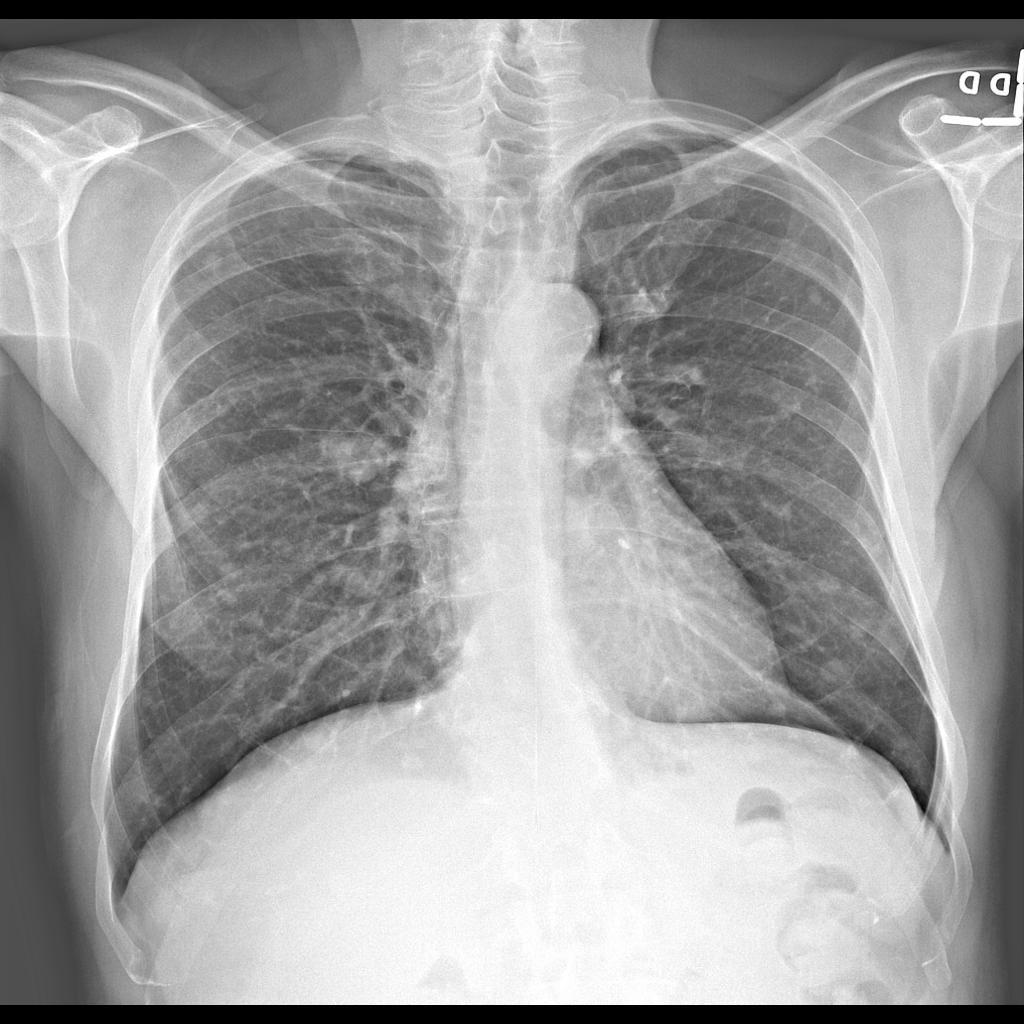Nodule: (313, 416, 401, 505), (559, 482, 630, 563), (817, 652, 855, 691)
